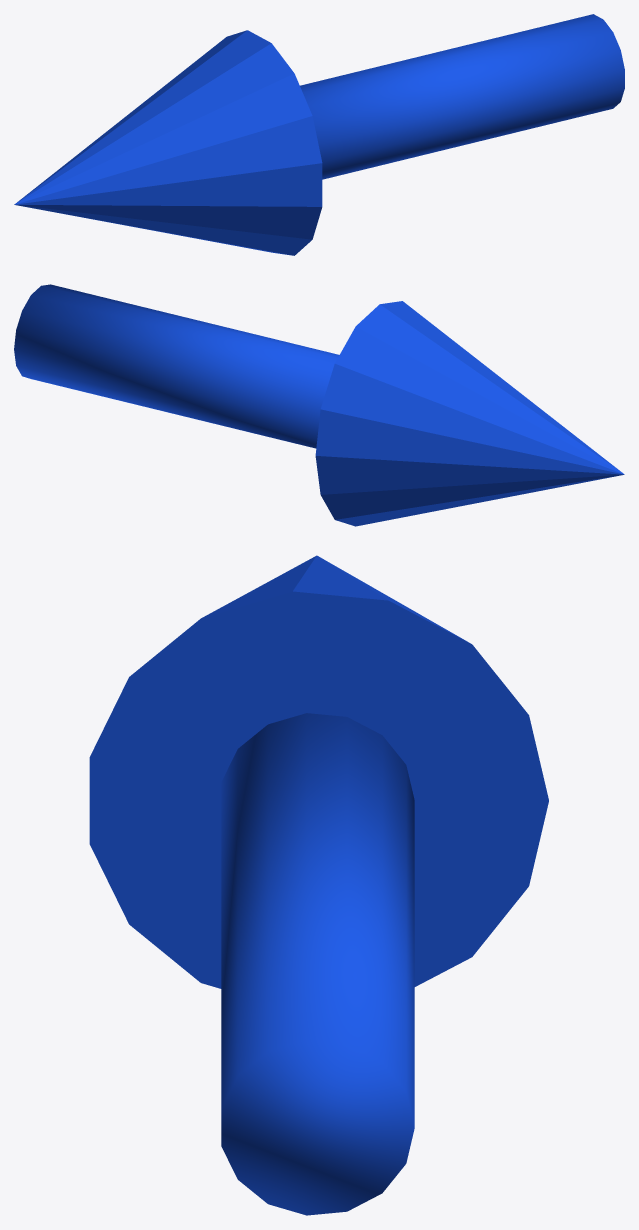
The model's file is Arrow.fbx.
3 renders of one model, top to bottom at view 1: azimuth 30°, elevation 25°; view 2: azimuth 150°, elevation 25°; view 3: azimuth 270°, elevation 25°, orthographic. The views are drawn at different scales.
Parts seen in each view (by area): view 1: Arrow; view 2: Arrow; view 3: Arrow.
Part boxes in pixels (<box>): Arrow: <box>14,14,624,255</box>; Arrow: <box>14,284,624,526</box>; Arrow: <box>89,555,548,1215</box>.
Bounding box in the file's own units: 35 × 11.93 × 11.87.
